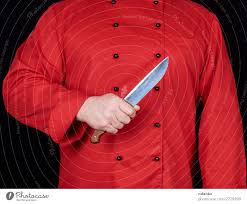weapon-unusual: (74, 54, 176, 146)
